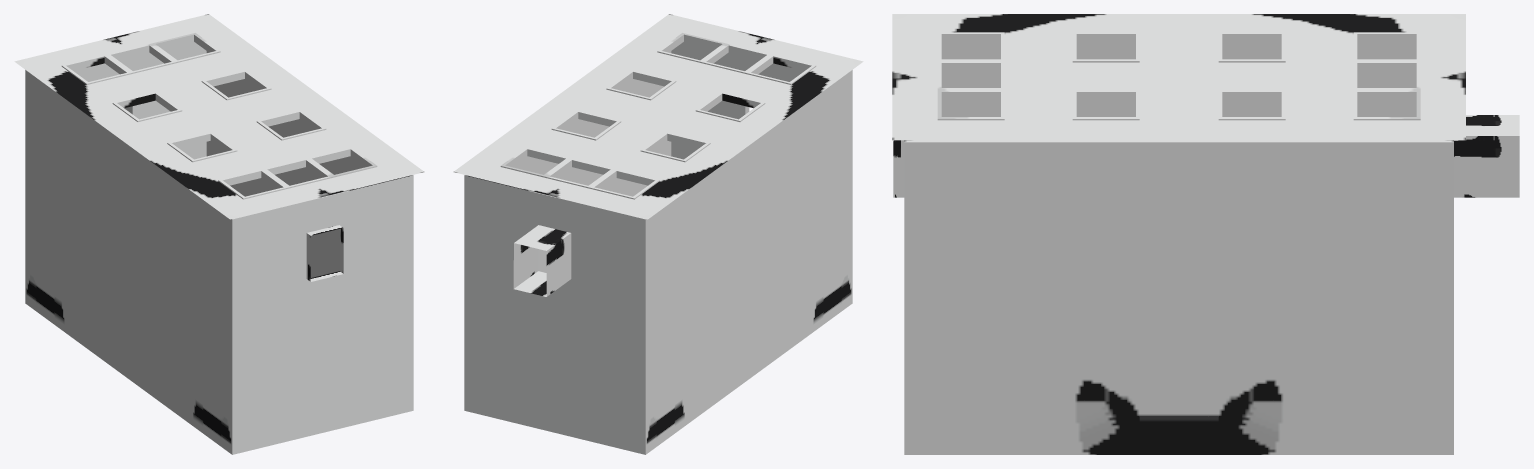
Rendered from WallRoof2.FBX.
3 views of the same model, side by side, from view 1: azimuth 30°, elevation 25°; view 2: azimuth 150°, elevation 25°; view 3: azimuth 270°, elevation 25° (orthographic). The views are drawn at different scales.
Visible parts, largest first — view 1: Object051; view 2: Object051; view 3: Object051.
Boxes of the visible parts, x1,y1,x2,y2 form: Object051: (14, 14, 424, 454); Object051: (453, 14, 863, 454); Object051: (892, 14, 1519, 454).
Size of the model in its own units: 25.96 by 30.76 by 54.52.
